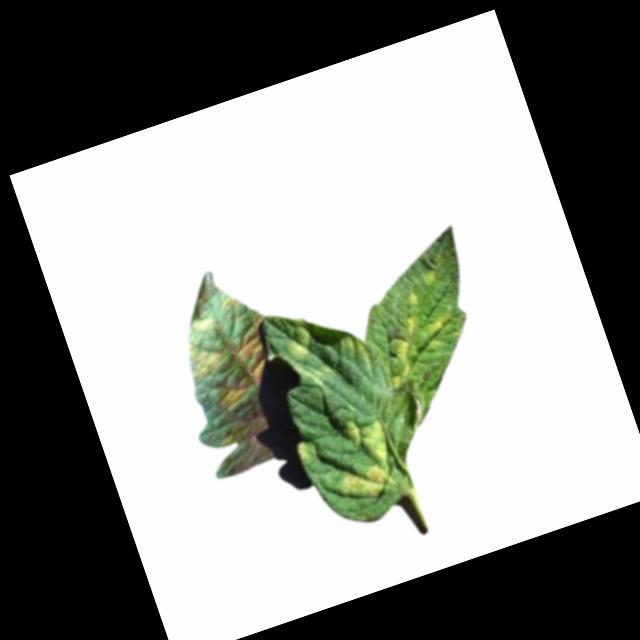Leaf_Mold: (168, 286, 289, 418), (364, 284, 466, 390), (323, 408, 403, 507), (274, 321, 316, 362), (292, 439, 317, 466)
